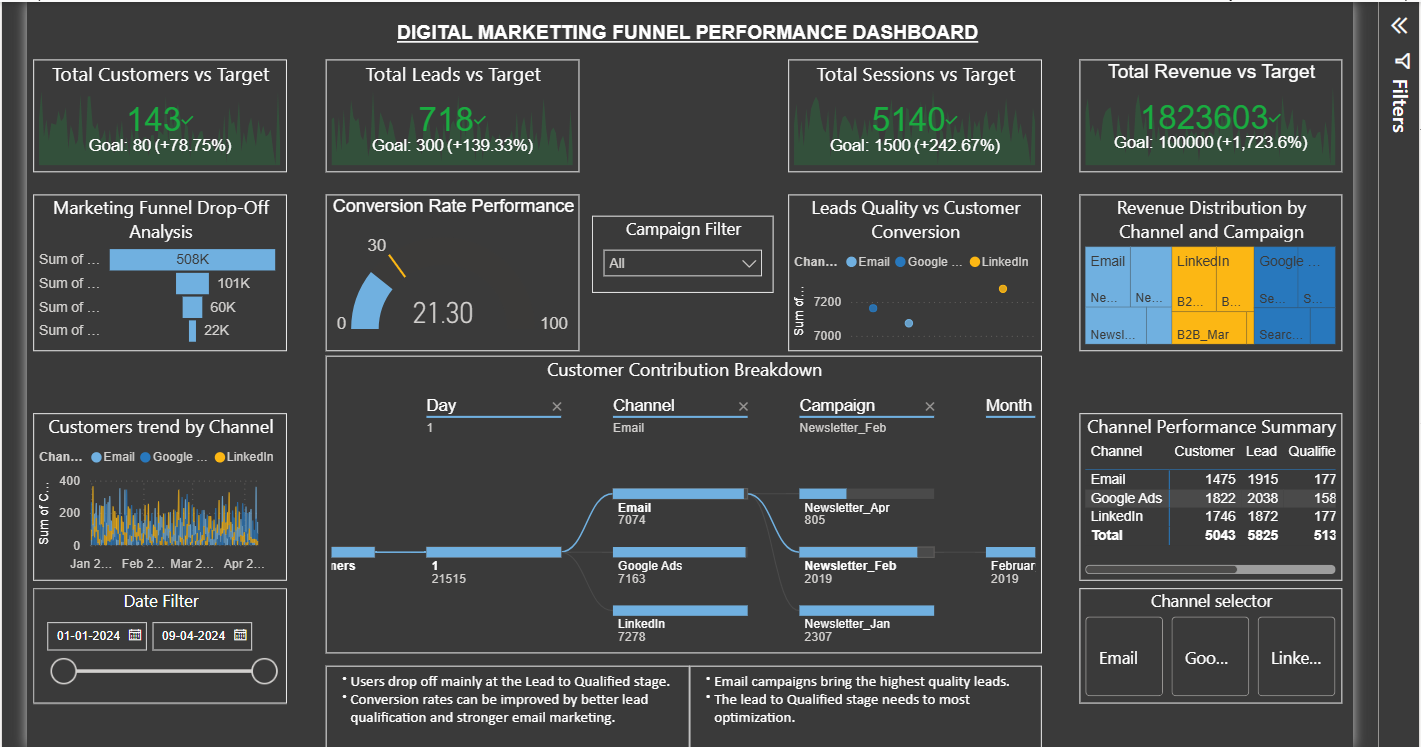

The dashboard page shown, as its layout file describes it:
{"tool":"powerbi","page":{"name":"Page 1","canvas":[1280,720],"ordinal":0},"visuals":[{"type":"funnel","title":"Marketing Funnel Drop-Off Analysis","fields":{"Y":["Sum(Funnel_Data.Sessions)","Sum(Funnel_Data.Leads)","Sum(Funnel_Data.Qualified_Leads)","Sum(Funnel_Data.Customers)"]},"box":[6,185.8,244.9,150.8],"z":0},{"type":"gauge","title":"Conversion Rate Performance","fields":{"Y":["Funnel_Data.Conversion Rate"],"TargetValue":["Funnel_Data.Target"],"MinValue":["Funnel_Data.Min"],"MaxValue":["Funnel_Data.Max"]},"box":[288.3,185.8,244.9,150.8],"z":1000},{"type":"pivotTable","title":"Channel Performance Summary","fields":{"Rows":["Funnel_Data.Channel"],"Columns":["Funnel_Data.Funnel_Stage"],"Values":["Sum(Funnel_Data.Customers)"]},"box":[1015.8,396.9,253.4,161.7],"z":2000},{"type":"ribbonChart","title":"Customers trend by Channel","fields":{"Category":["Funnel_Data.Date"],"Series":["Funnel_Data.Channel"],"Y":["Sum(Funnel_Data.Customers)"]},"box":[6,396.9,244.9,161.7],"z":3000},{"type":"scatterChart","title":"Leads Quality vs Customer Conversion","fields":{"X":["Sum(Funnel_Data.Leads)"],"Y":["Sum(Funnel_Data.Customers)"],"Size":["Sum(Funnel_Data.Revenue)"],"Series":["Funnel_Data.Channel"]},"box":[734.7,185.8,244.9,150.8],"z":4000},{"type":"slicer","title":"Campaign Filter","fields":{"Values":["Funnel_Data.Campaign"]},"box":[545.3,206.3,174.9,74.8],"z":5000},{"type":"advancedSlicerVisual","title":"Channel selector","fields":{"Values":["Funnel_Data.Channel"]},"box":[1015.8,565.8,253.4,111],"z":6000},{"type":"slicer","title":"Date Filter","fields":{"Values":["Funnel_Data.Date"]},"box":[6,565.8,244.9,111],"z":7000},{"type":"decompositionTreeVisual","title":"Customer Contribution Breakdown","fields":{"Analyze":["Sum(Funnel_Data.Customers)"],"ExplainBy":["Funnel_Data.Month.Variation.Date Hierarchy.Day","Funnel_Data.Channel","Funnel_Data.Campaign","Funnel_Data.Month.Variation.Date Hierarchy.Month","Funnel_Data.Month.Variation.Date Hierarchy.Year","Funnel_Data.Month.Variation.Date Hierarchy.Quarter"]},"box":[288.3,341.4,691.3,287.1],"z":8000},{"type":"textbox","box":[288.3,640.6,351.1,79.6],"z":9000},{"type":"kpi","title":"Total Revenue vs Target","fields":{"Indicator":["Sum(Funnel_Data.Revenue)"],"TrendLine":["Funnel_Data.Date"],"Goal":["Funnel_Data.Target Revenue"]},"box":[1015.8,55.5,253.4,108.6],"z":10000},{"type":"kpi","title":"Total Sessions vs Target ","fields":{"Indicator":["Sum(Funnel_Data.Sessions)"],"TrendLine":["Funnel_Data.Date"],"Goal":["Funnel_Data.Target Sessions"]},"box":[734.7,55.5,244.9,108.6],"z":11000},{"type":"kpi","title":"Total Leads vs Target ","fields":{"Indicator":["Sum(Funnel_Data.Leads)"],"TrendLine":["Funnel_Data.Date"],"Goal":["Funnel_Data.Target Leads"]},"box":[288.3,55.5,244.9,108.6],"z":12000},{"type":"kpi","title":"Total Customers vs Target","fields":{"Indicator":["Funnel_Data.Total Customers"],"TrendLine":["Funnel_Data.Date"],"Goal":["Funnel_Data.Target Customers"]},"box":[6,55.5,244.9,108.6],"z":13000},{"type":"treemap","title":"Revenue Distribution by Channel and Campaign","fields":{"Group":["Funnel_Data.Channel"],"Values":["Sum(Funnel_Data.Revenue)"],"Details":["Funnel_Data.Campaign"]},"box":[1015.8,185.8,253.4,150.8],"z":14000},{"type":"textbox","box":[6,14.5,1263.1,31.4],"z":15000},{"type":"textbox","box":[639.4,640.6,340.2,79.6],"z":15001}]}

Visuals, with their boxes on the page's 1280x720 design canvas (x1, y1, x2, y2). These are canvas units, not pixel positions in the 1421x747 screenshot, which may show the page scaled, cropped or inside an application window:
"Marketing Funnel Drop-Off Analysis" funnel: rect(6, 186, 251, 337)
"Conversion Rate Performance" gauge: rect(288, 186, 533, 337)
"Channel Performance Summary" pivotTable: rect(1016, 397, 1269, 559)
"Customers trend by Channel" ribbonChart: rect(6, 397, 251, 559)
"Leads Quality vs Customer Conversion" scatterChart: rect(735, 186, 980, 337)
"Campaign Filter" slicer: rect(545, 206, 720, 281)
"Channel selector" advancedSlicerVisual: rect(1016, 566, 1269, 677)
"Date Filter" slicer: rect(6, 566, 251, 677)
"Customer Contribution Breakdown" decompositionTreeVisual: rect(288, 341, 980, 628)
textbox: rect(288, 641, 639, 720)
"Total Revenue vs Target" kpi: rect(1016, 56, 1269, 164)
"Total Sessions vs Target " kpi: rect(735, 56, 980, 164)
"Total Leads vs Target " kpi: rect(288, 56, 533, 164)
"Total Customers vs Target" kpi: rect(6, 56, 251, 164)
"Revenue Distribution by Channel and Campaign" treemap: rect(1016, 186, 1269, 337)
textbox: rect(6, 14, 1269, 46)
textbox: rect(639, 641, 980, 720)
